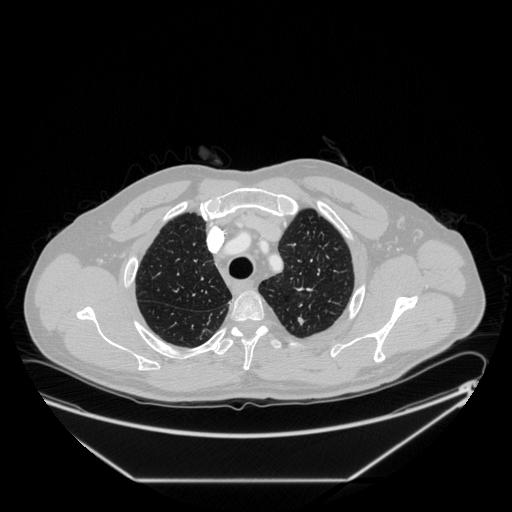nodule: (294, 314, 306, 326)
